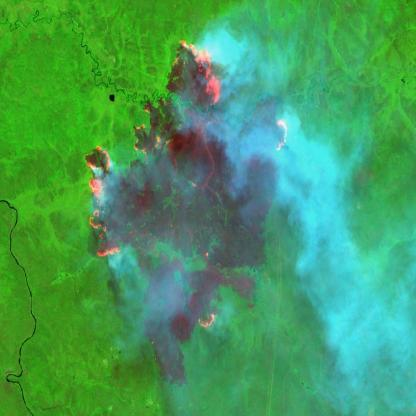fire: (82, 34, 296, 330)
